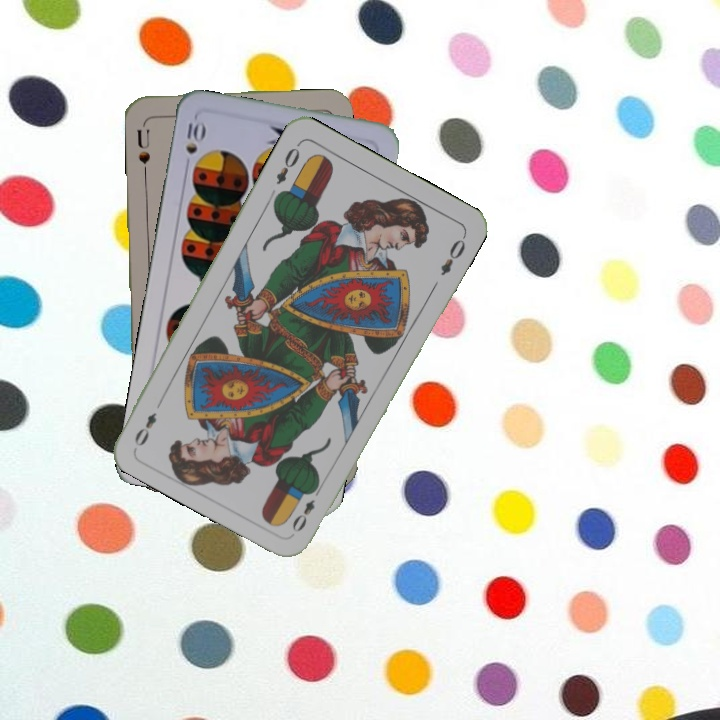EO: (288, 481, 325, 535), (272, 143, 303, 188)
S10: (181, 114, 208, 173)
SU: (133, 125, 152, 166)
